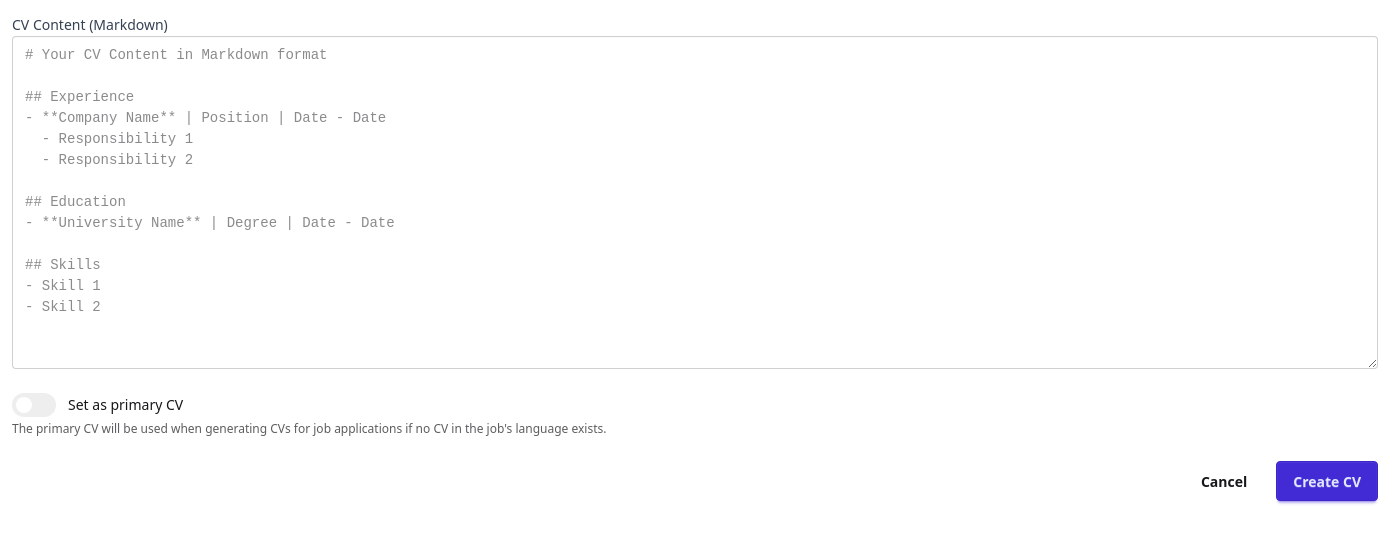
Test: DetailedCVForm › validates required fields
// Submit with empty content
Click the button "Create CV": coordinates (1327, 481) [1276, 461, 1378, 501]
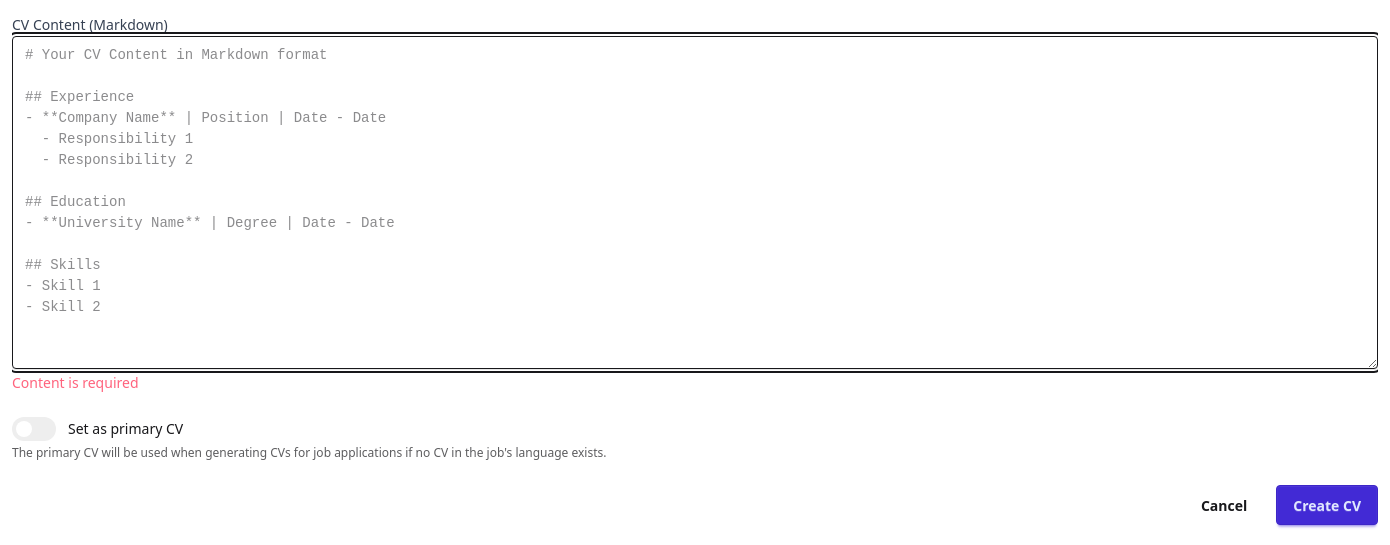
Expected: the text "Content is required" is shown, [12, 373, 138, 392]
